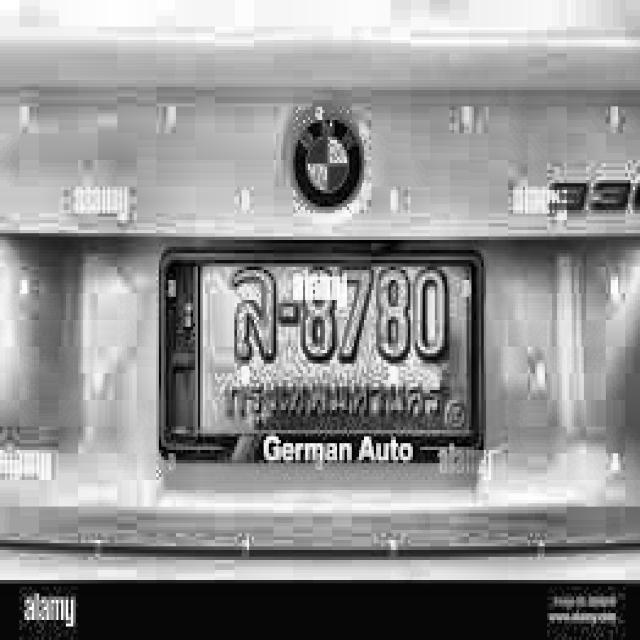license-plate: (156, 251, 490, 465)
